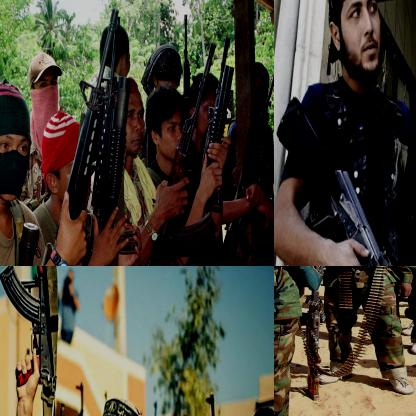rifle: (24, 10, 130, 265), (274, 93, 415, 265), (144, 37, 221, 265), (184, 36, 238, 260), (0, 266, 67, 395), (234, 58, 273, 262), (304, 266, 335, 399), (73, 374, 90, 415), (51, 389, 69, 415)
